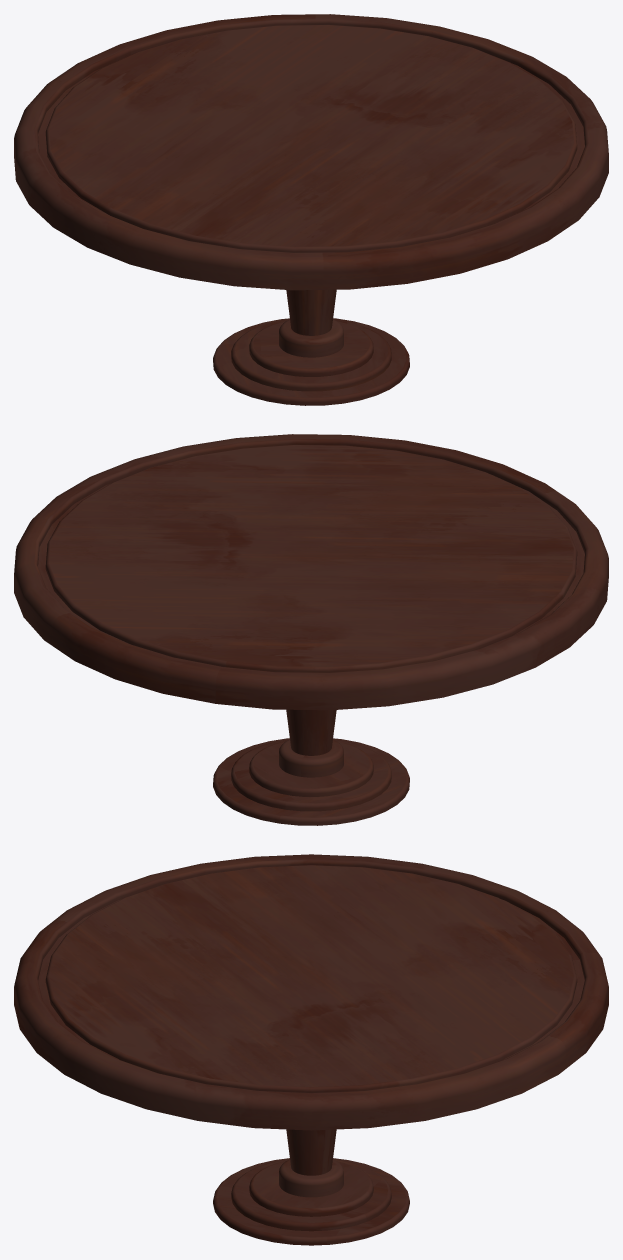
Rendered from Mesh_Table.fbx.
3 views of the same model, one above another, from view 1: azimuth 30°, elevation 25°; view 2: azimuth 150°, elevation 25°; view 3: azimuth 270°, elevation 25° (orthographic).
Parts seen in each view (by area): view 1: Table_high; view 2: Table_high; view 3: Table_high.
Boxes of the visible parts, box(x1,y1,x2,y2) form: Table_high: box(14, 14, 608, 405); Table_high: box(14, 434, 608, 825); Table_high: box(14, 854, 608, 1245).
Size of the model in its own units: 132 by 55.76 by 132.
Materials: 1 (1 with a texture image).
